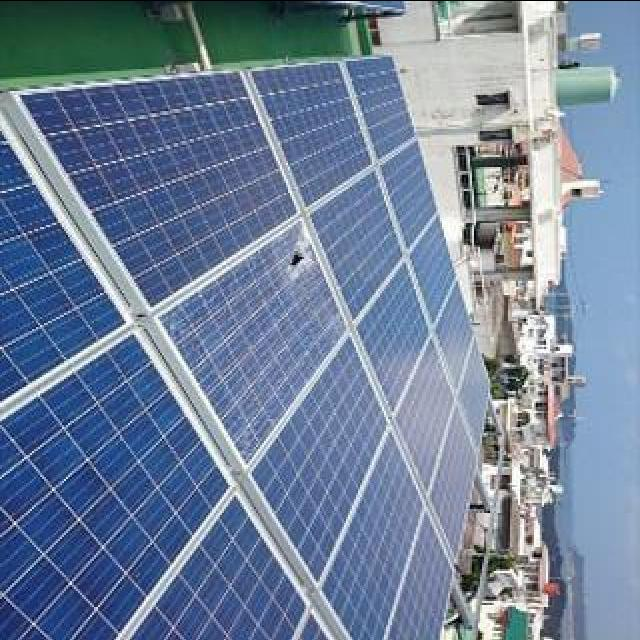cracked: (148, 220, 340, 462)
